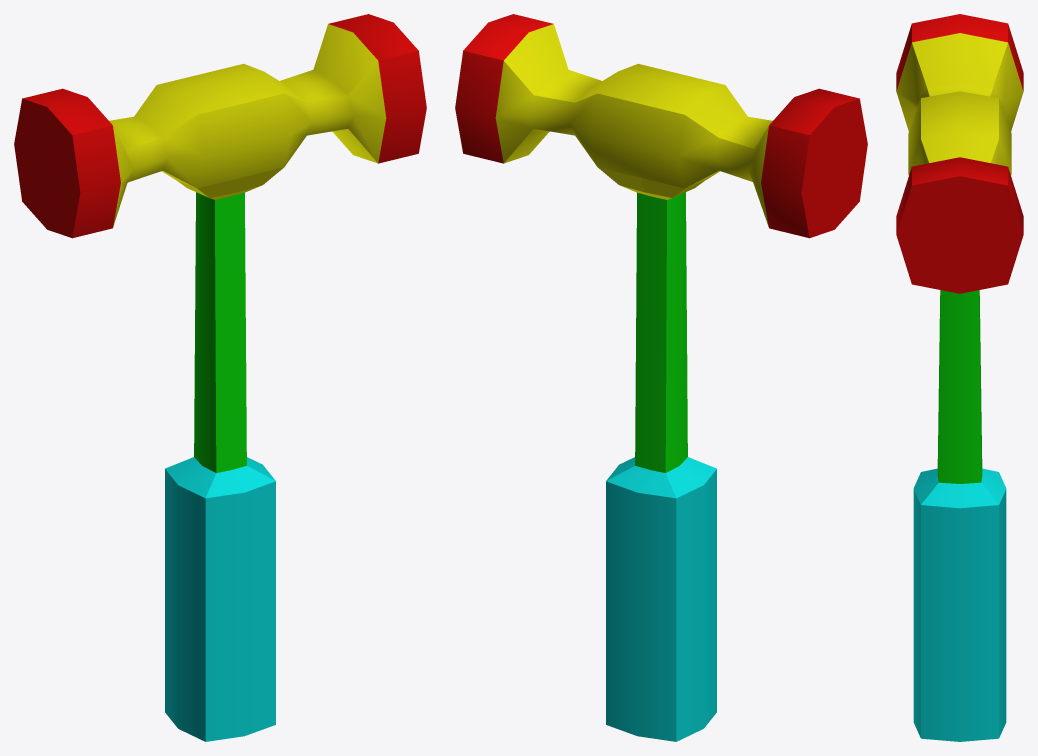
Rendered from Surfacing_Hammer_FBX.fbx.
The picture shows the model from 3 angles, left to right: view 1: azimuth 30°, elevation 25°; view 2: azimuth 150°, elevation 25°; view 3: azimuth 270°, elevation 25°; orthographic projection. The views are drawn at different scales.
Parts seen in each view (by area): view 1: hammerMesh; view 2: hammerMesh; view 3: hammerMesh.
Part boxes in pixels (x1=…): hammerMesh: x1=14, y1=14, x2=426, y2=741; hammerMesh: x1=455, y1=14, x2=867, y2=741; hammerMesh: x1=896, y1=14, x2=1023, y2=741.
Size of the model in its own units: 0.4915 by 0.8861 by 0.1629.
